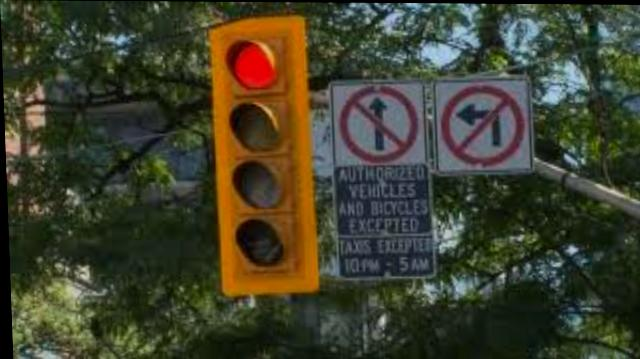not_go_straight: (338, 84, 423, 160)
not_turn_left: (442, 78, 529, 170)
